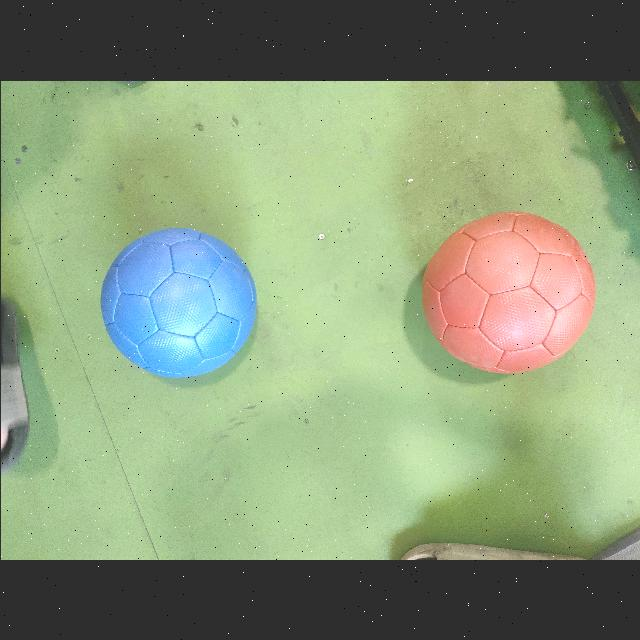B: (100, 228, 256, 377)
R: (422, 211, 594, 372)
